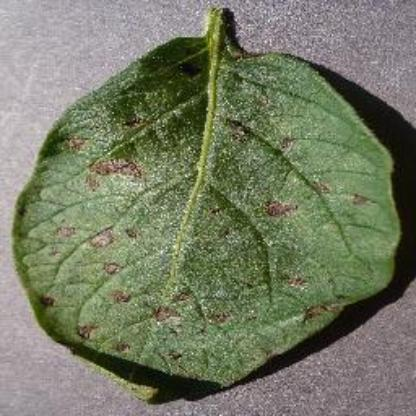Early-Blight: (8, 2, 416, 406)
